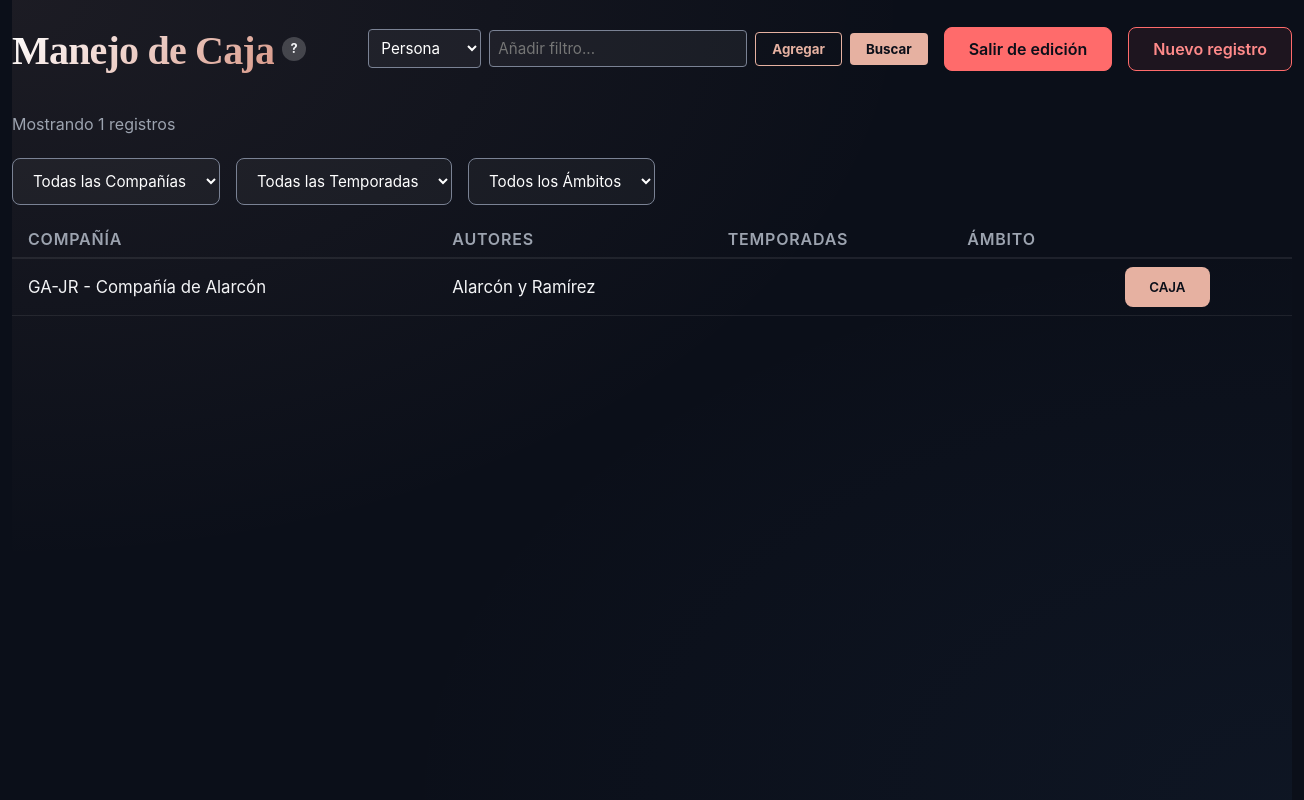
modo edición en Manejo de Caja › un administrador en modo edición ve botón de cierre, alta y columna Admin
Select "Texto libre" in the dropdown named "Buscar en" at (425, 49), box [368,29,481,68]
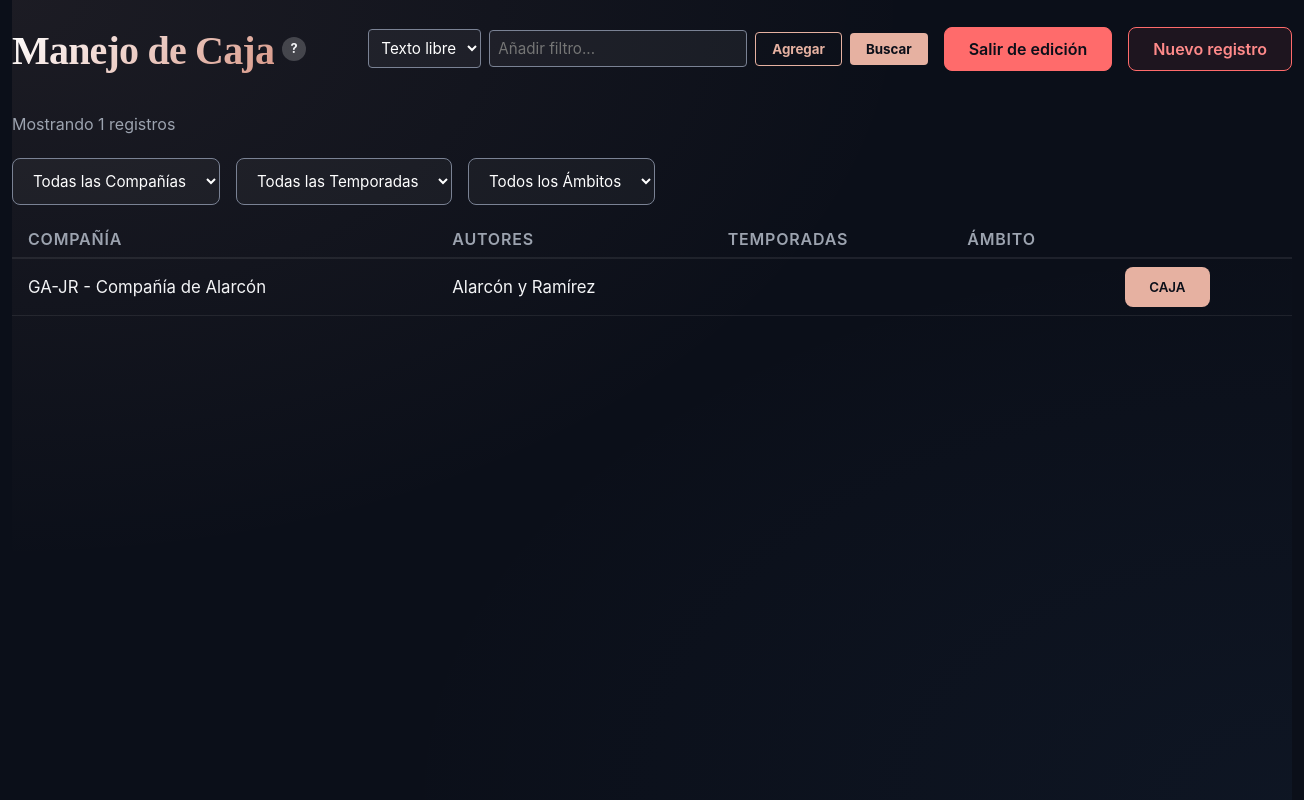
Type "Potosí" into the field with placeholder "Añadir filtro..." at (618, 49), box [489,30,747,67]
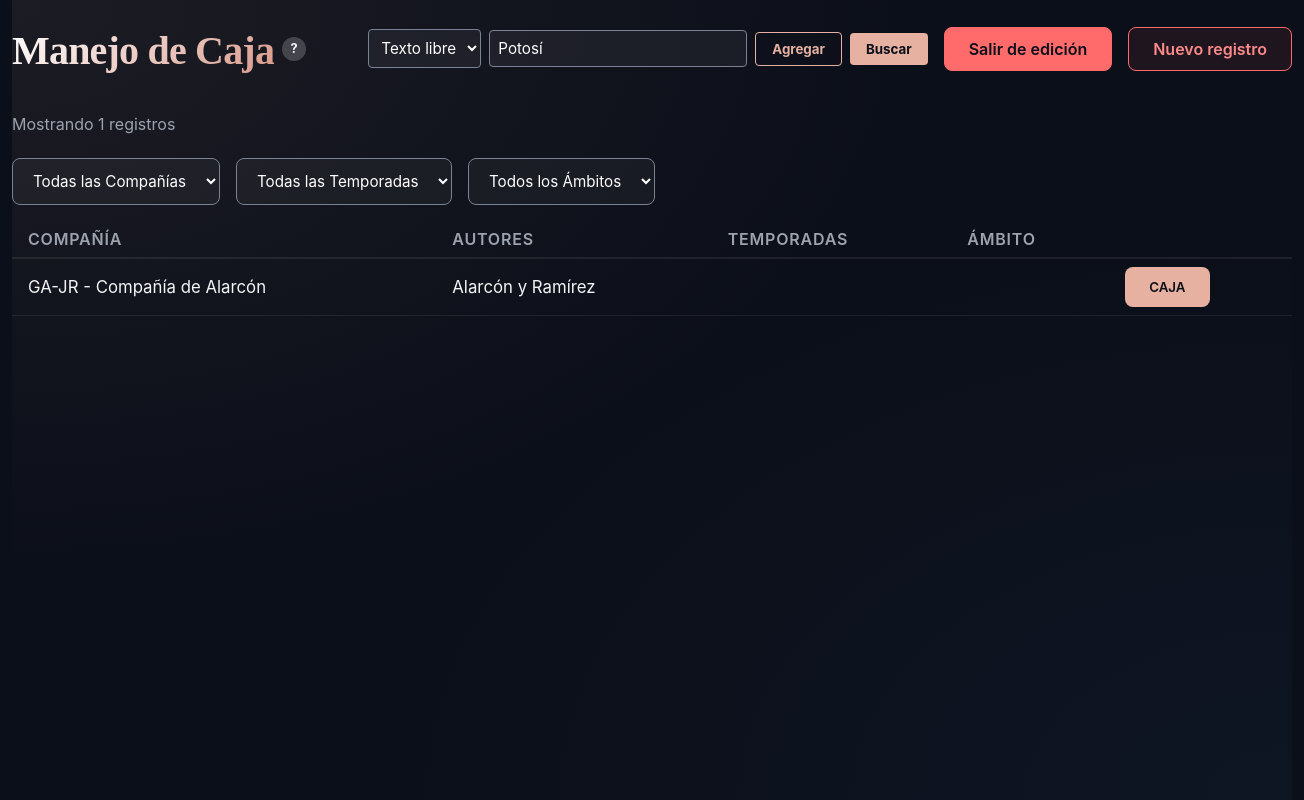
Click the button "Buscar" at (889, 49), box [850,33,928,65]
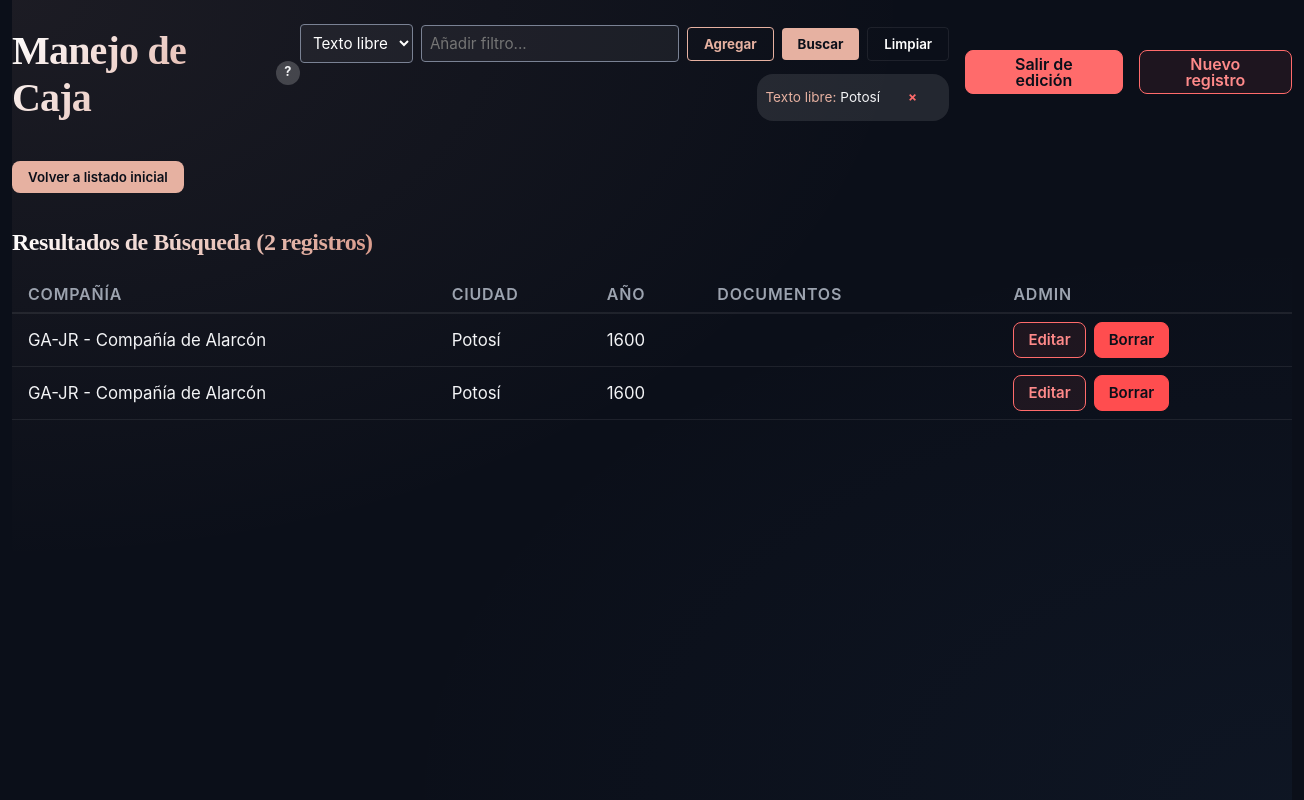
Check: the number of buttons "Editar" is 2, box [1013,322,1086,358]; [1013,375,1086,411]
Check: the number of buttons "Borrar" is 2, box [1094,322,1169,358]; [1094,375,1169,411]
